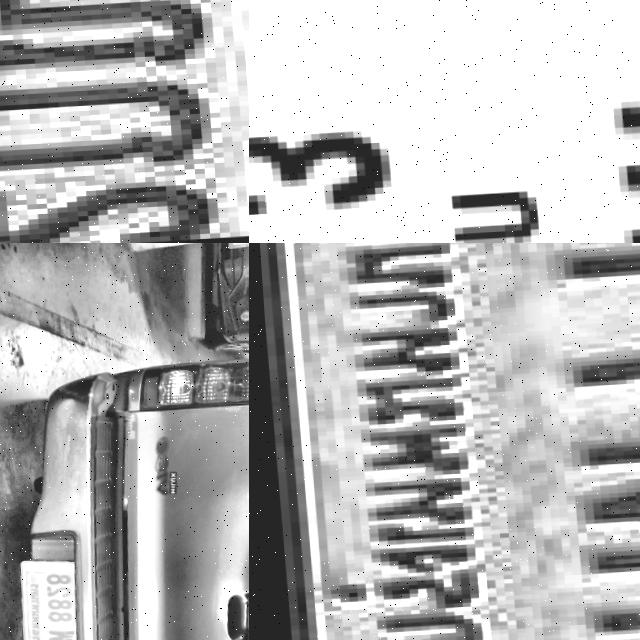license-plate: (249, 243, 640, 640), (249, 0, 640, 243), (0, 0, 249, 243), (6, 559, 79, 640)
